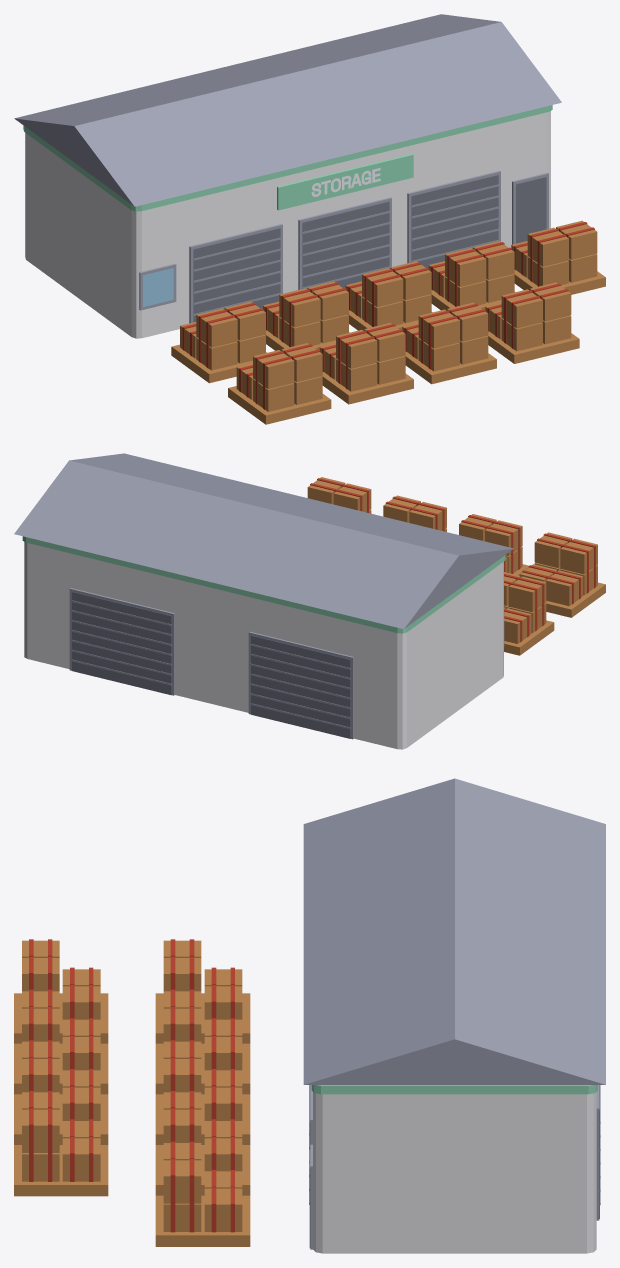
Rendered from storehouse-2x2-t9-tone-a.glb.
The picture shows the model from 3 angles, top to bottom: view 1: azimuth 30°, elevation 25°; view 2: azimuth 150°, elevation 25°; view 3: azimuth 270°, elevation 25°; orthographic projection. The views are drawn at different scales.
Visible parts, largest first — view 1: storehouse-2x2-t9-tone-a; view 2: storehouse-2x2-t9-tone-a; view 3: storehouse-2x2-t9-tone-a.
Boxes of the visible parts, box(x1,y1,x2,y2) form: storehouse-2x2-t9-tone-a: box(14, 14, 605, 424); storehouse-2x2-t9-tone-a: box(14, 453, 605, 749); storehouse-2x2-t9-tone-a: box(14, 778, 605, 1253).
Bounding box in the file's own units: 1.96 × 0.76 × 1.88.
Materials: 1 (1 with a texture image).
